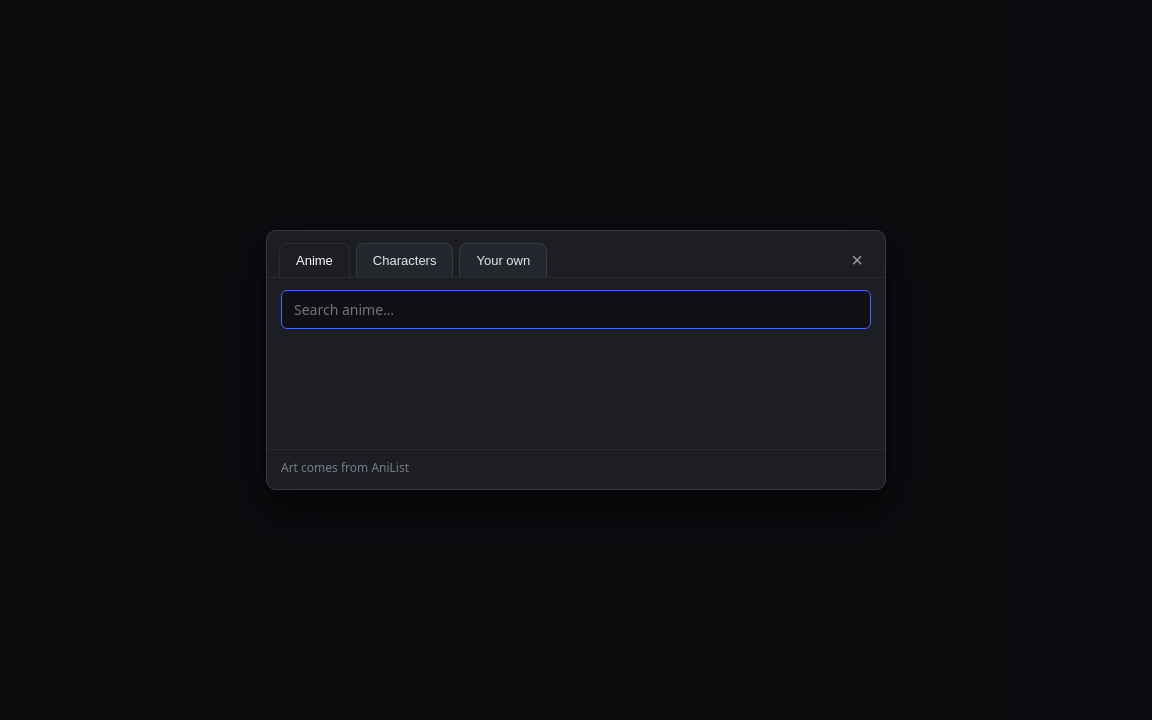
Test case: TilePicker › rejects a non-https image link
Click the button "Your own" at (503, 260), box [459,243,547,277]
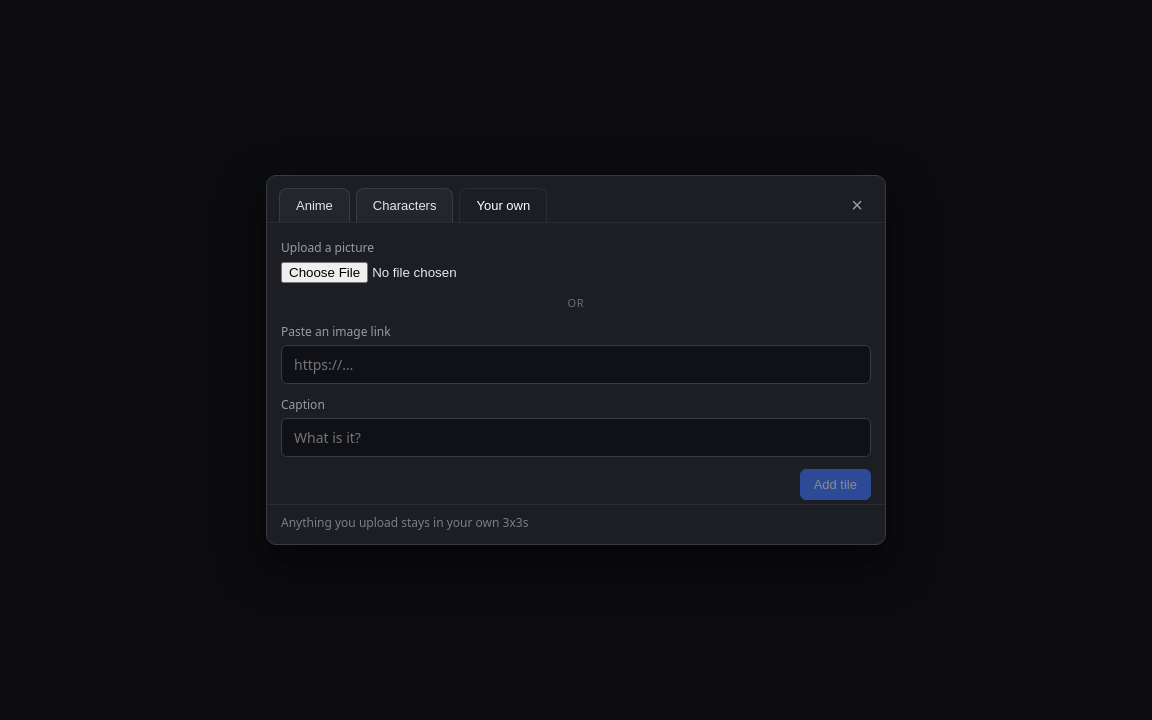
Type "http://insecure.example/x.jpg" into the field with placeholder "https://…" at (576, 364), box [281,345,871,384]
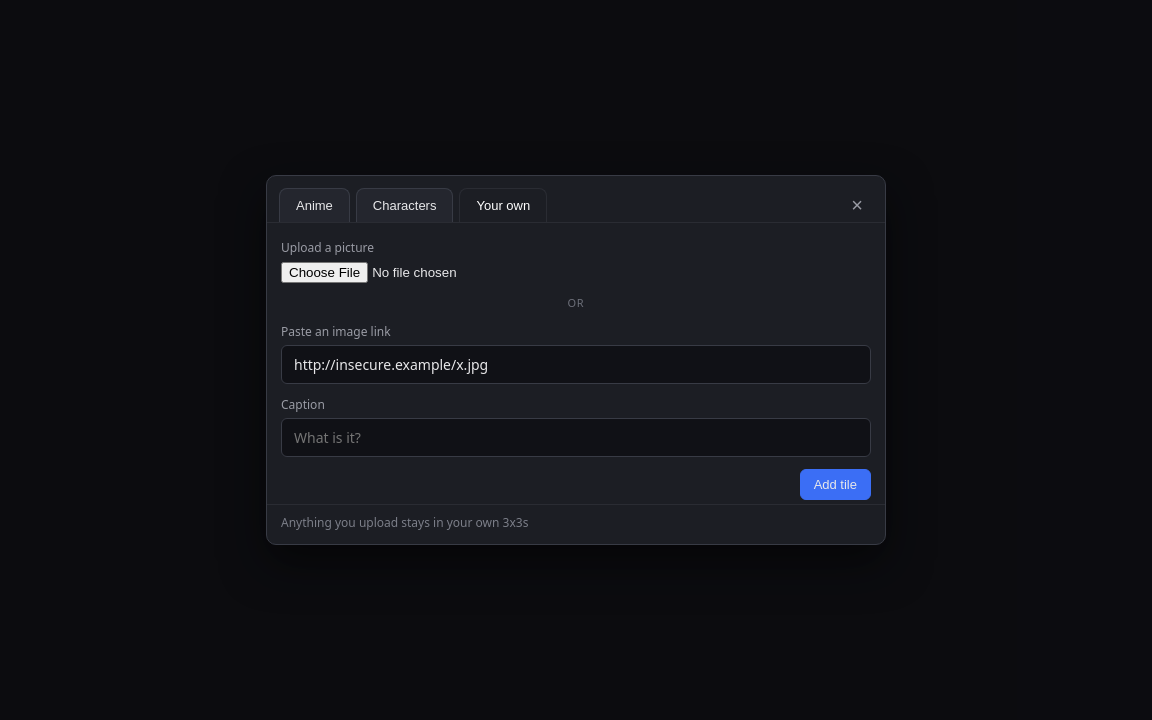
Click the button "Add tile" at (835, 485), box [800,469,871,500]
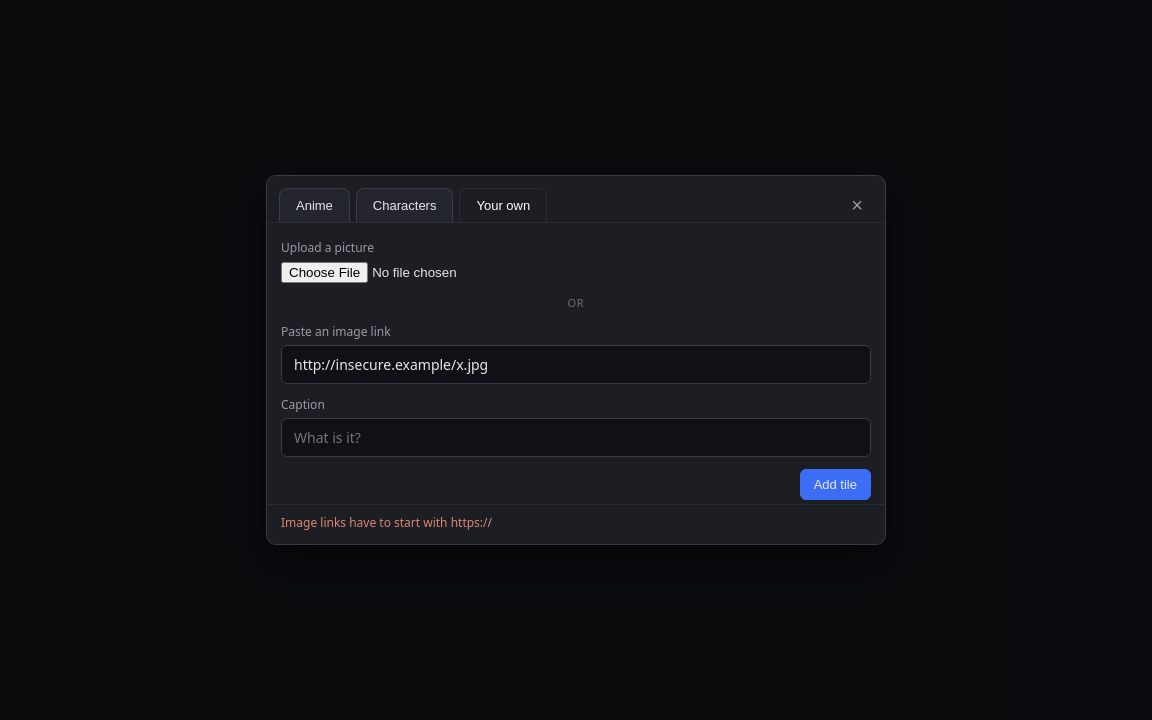
Now the text "Image links have to start with https://" is shown, box [267,504,885,544]
